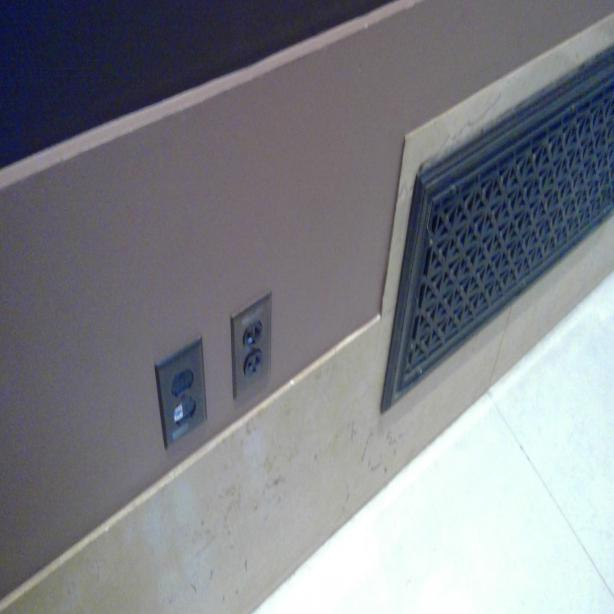typeb: (244, 324, 262, 352), (246, 354, 260, 381)
